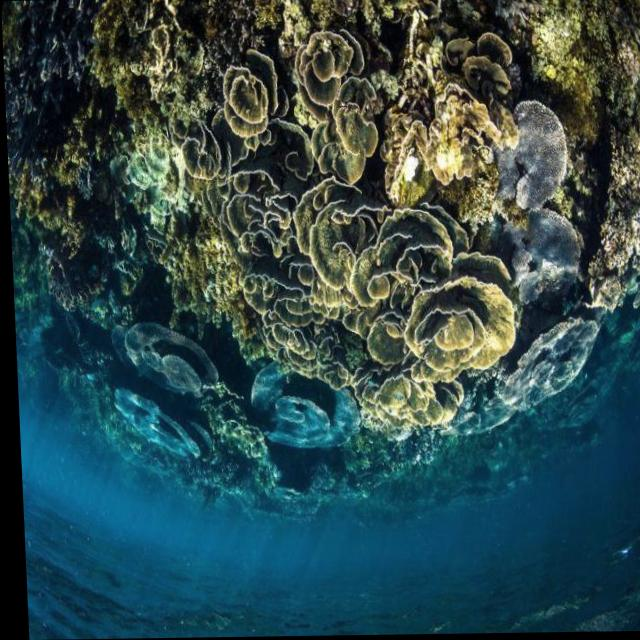Healthy Coral: (11, 0, 640, 533)
